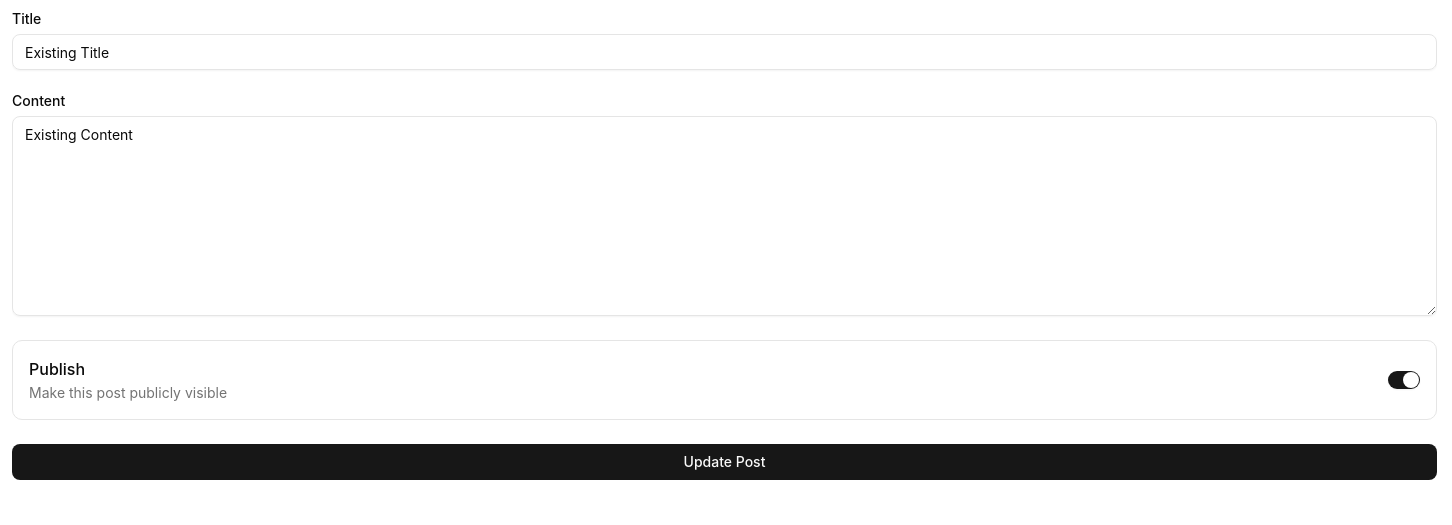
Test: UpdatePostForm › shows validation error when title is cleared
This screenshot has width=1452, height=525.
Clear the field labelled "Title" at (724, 52), box [12,34,1437,70]
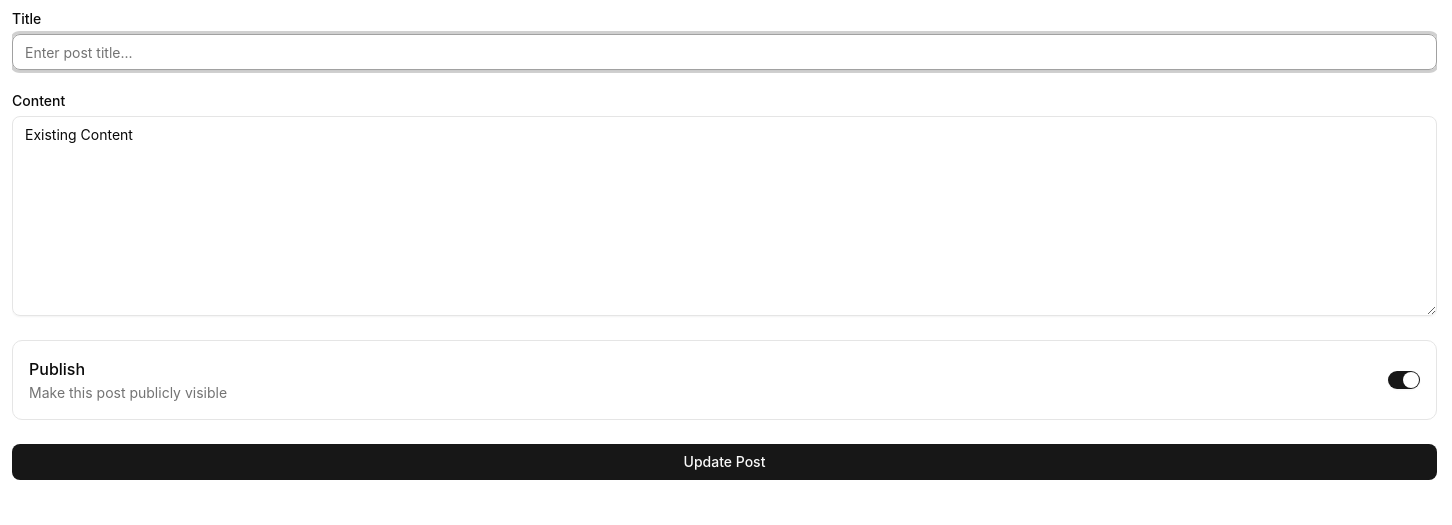
Click the button "Update Post" at (724, 462), box [12,444,1437,480]
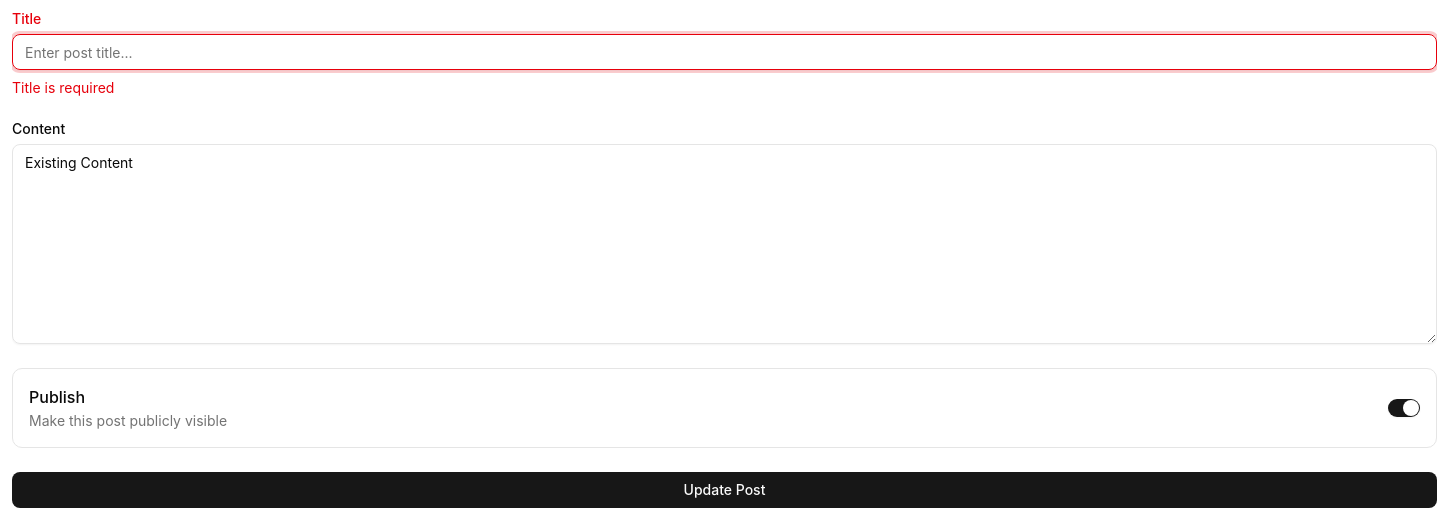
Result: the text "Title is required" is shown at [12,79,114,96]
